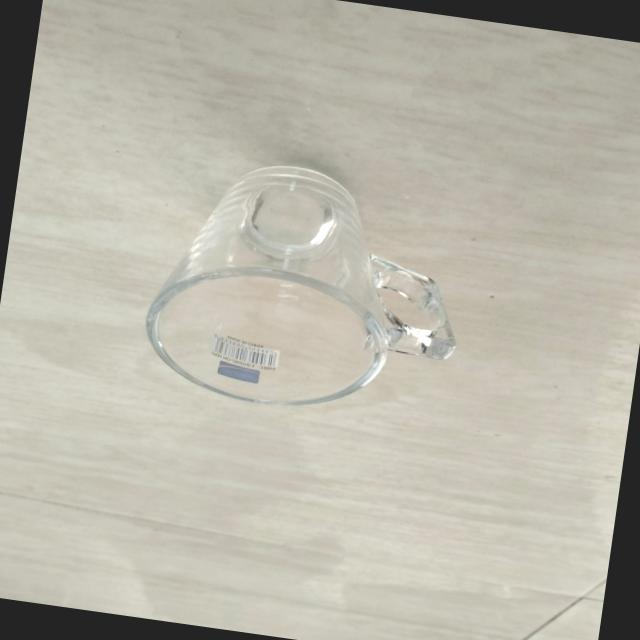glass-VX4N: (130, 142, 465, 426)
